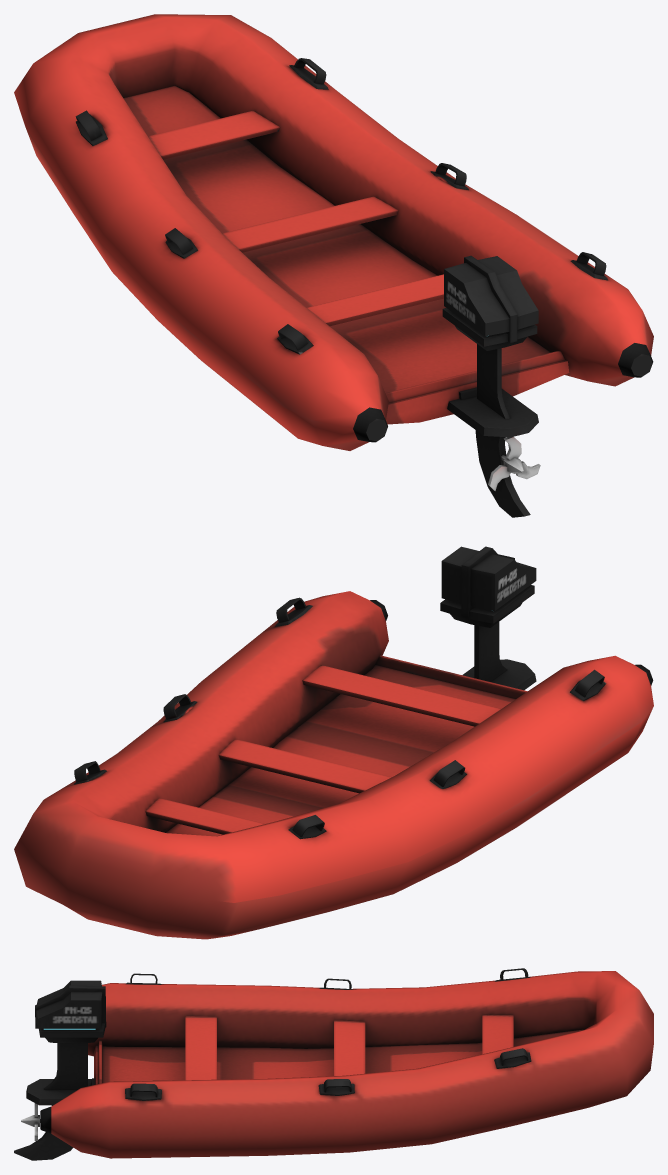
Rendered from boat.FBX.
The picture shows the model from 3 angles, top to bottom: view 1: azimuth 30°, elevation 25°; view 2: azimuth 150°, elevation 25°; view 3: azimuth 270°, elevation 25°; orthographic projection. The views are drawn at different scales.
Parts seen in each view (by area): view 1: boat; view 2: boat; view 3: boat.
Boxes of the visible parts, box(x1,y1,x2,y2) form: boat: box(14, 14, 653, 517); boat: box(14, 546, 653, 939); boat: box(14, 968, 653, 1160).
Bounding box in the file's own units: 115 × 69.71 × 234.
